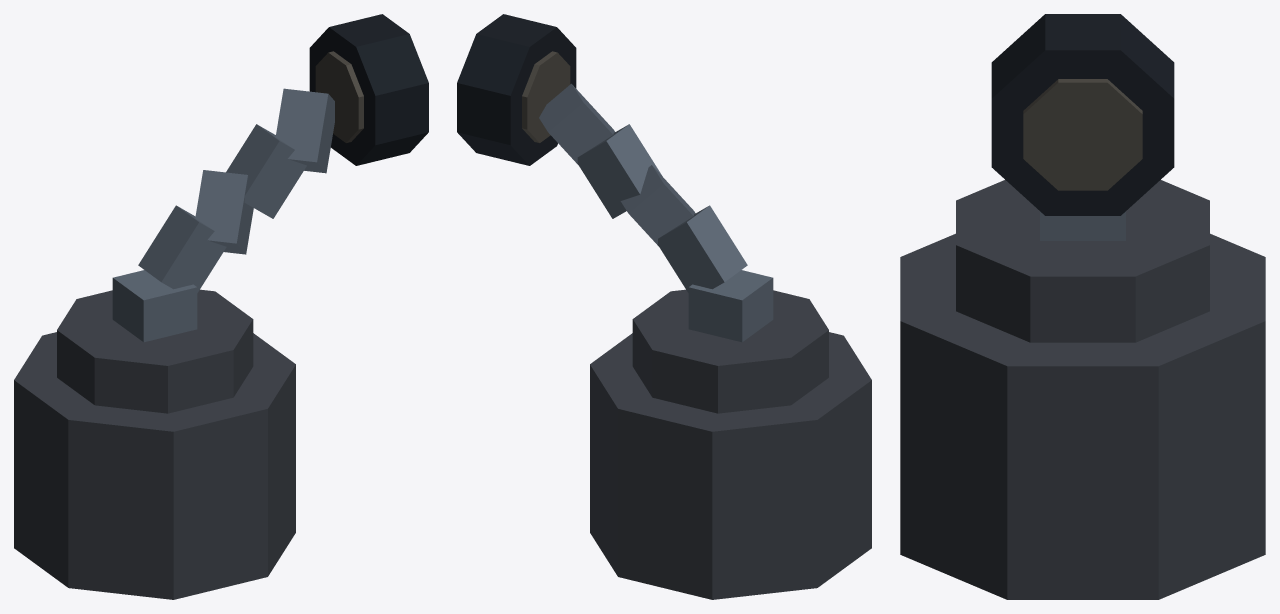
The model's file is Rezagado_low.fbx.
The picture shows the model from 3 angles, left to right: view 1: azimuth 30°, elevation 25°; view 2: azimuth 150°, elevation 25°; view 3: azimuth 270°, elevation 25°; orthographic projection. The views are drawn at different scales.
Parts seen in each view (by area): view 1: Rezagado_low; view 2: Rezagado_low; view 3: Rezagado_low.
Part boxes in pixels (x1,y1,x2,y2): Rezagado_low: (14,14,428,599); Rezagado_low: (457,14,871,599); Rezagado_low: (900,14,1265,599).
Size of the model in its own units: 67.25 by 81.62 by 42.5.
